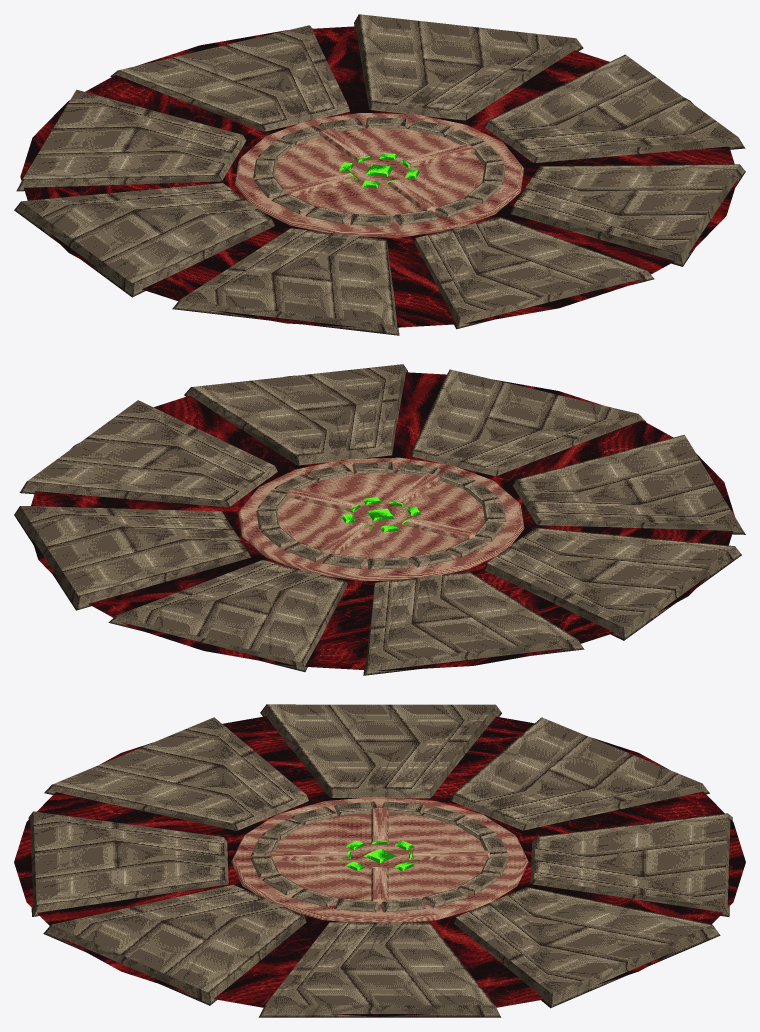
Rendered from Prop_RitualCircle_Center.glb.
3 views of the same model, one above another, from view 1: azimuth 30°, elevation 25°; view 2: azimuth 150°, elevation 25°; view 3: azimuth 270°, elevation 25° (orthographic). The views are drawn at different scales.
Visible parts, largest first — view 1: RitualCircle_StoneSlabs, RitualCircle_MarrowCracks, RitualCircle_BoneMedallion, RitualCircle_SigilInlay; view 2: RitualCircle_StoneSlabs, RitualCircle_MarrowCracks, RitualCircle_BoneMedallion, RitualCircle_SigilInlay; view 3: RitualCircle_StoneSlabs, RitualCircle_MarrowCracks, RitualCircle_BoneMedallion, RitualCircle_SigilInlay.
Boxes of the visible parts, <box> form: RitualCircle_StoneSlabs: <box>14,14,745,335</box>; RitualCircle_MarrowCracks: <box>20,26,737,327</box>; RitualCircle_BoneMedallion: <box>234,113,524,237</box>; RitualCircle_SigilInlay: <box>339,152,419,188</box>; RitualCircle_StoneSlabs: <box>14,364,745,675</box>; RitualCircle_MarrowCracks: <box>31,372,734,670</box>; RitualCircle_BoneMedallion: <box>238,457,524,581</box>; RitualCircle_SigilInlay: <box>341,497,420,532</box>; RitualCircle_StoneSlabs: <box>28,704,732,1017</box>; RitualCircle_MarrowCracks: <box>14,716,745,1016</box>; RitualCircle_BoneMedallion: <box>231,796,528,922</box>; RitualCircle_SigilInlay: <box>340,839,419,873</box>.
Bounding box in the file's own units: 10.16 × 0.177 × 10.16.
4 materials, 4 textured.
